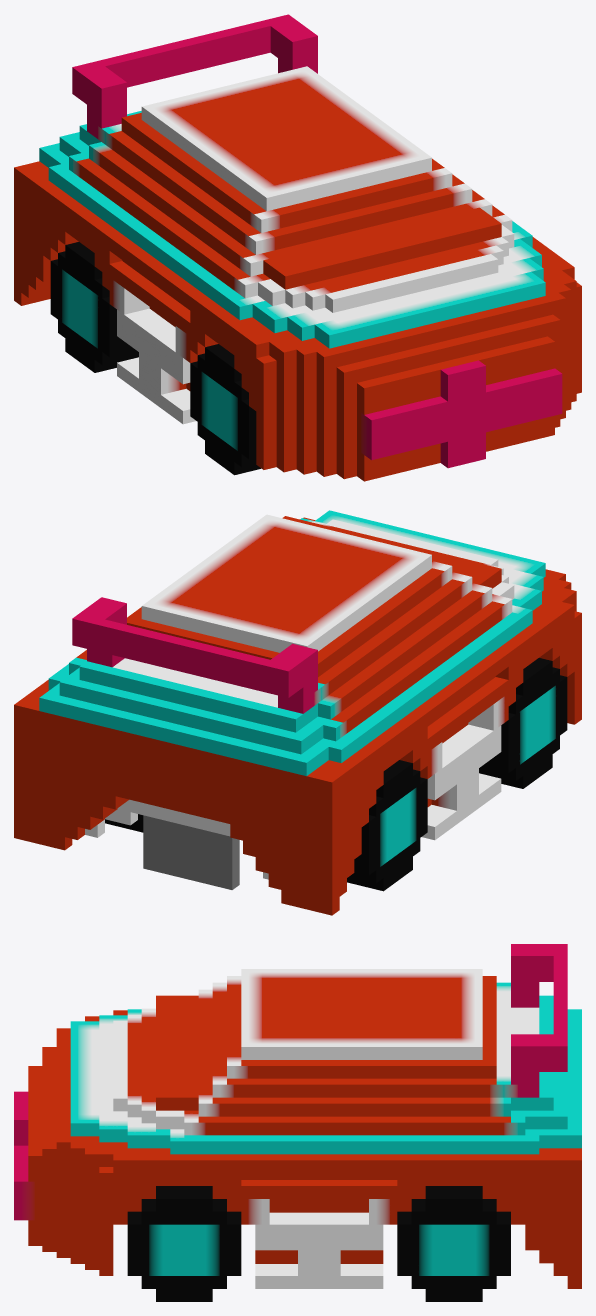
The model's file is Car_45.fbx.
3 renders of one model, top to bottom at view 1: azimuth 30°, elevation 25°; view 2: azimuth 150°, elevation 25°; view 3: azimuth 270°, elevation 25°, orthographic. The views are drawn at different scales.
Visible parts, largest first — view 1: Car_45; view 2: Car_45; view 3: Car_45.
Boxes of the visible parts, left/top/right/bottom form: Car_45: left=14, top=14, right=581, bottom=481; Car_45: left=14, top=510, right=581, bottom=915; Car_45: left=14, top=944, right=581, bottom=1301.
Size of the model in its own units: 25 by 18 by 40.
Materials: 1 (1 with a texture image).
